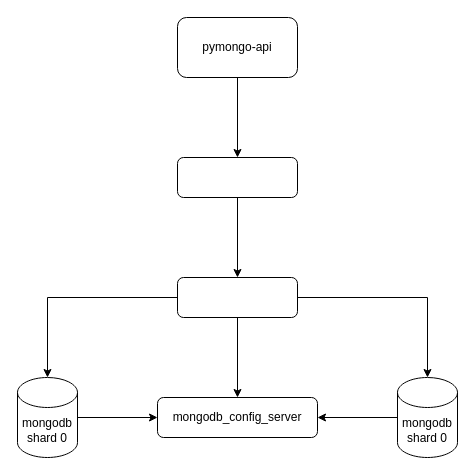
This 475x475 diagram has some shape labels left out. Here are the shapes that lost their labels. From the top down, the centre of each, then its label:
[237,177]: Драйвер
[237,297]: mongodb_router
